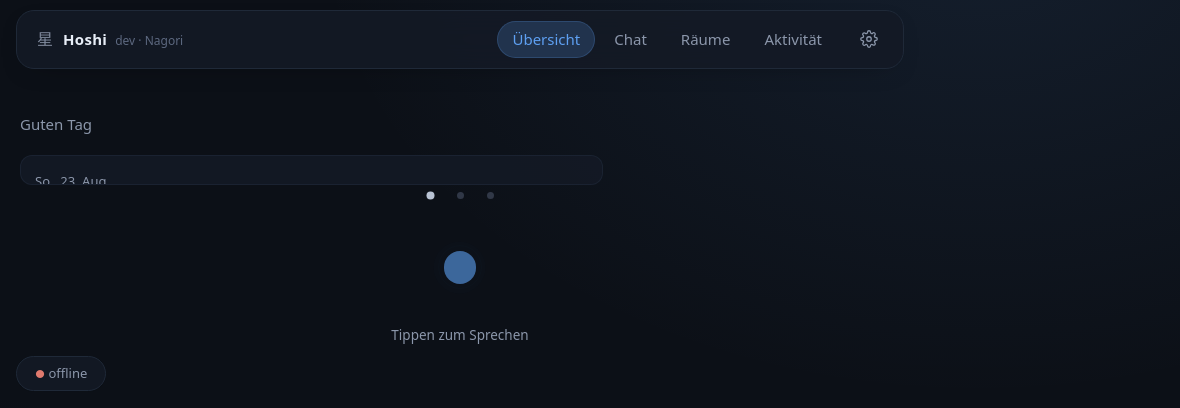
it: App — Übersicht ist die Start-Ansicht, der Orb sitzt dort › lädt auf dem Übersicht-Reiter mit sichtbarem Voice-Orb; Chat-Reiter zeigt die Compose-Bar
Expected: the element showing "Tippen zum Sprechen" is shown, [391,215,529,344]
Click the button with class "nav__tab" showing "Chat" at {"x": 631, "y": 39}, box [599,21,662,58]
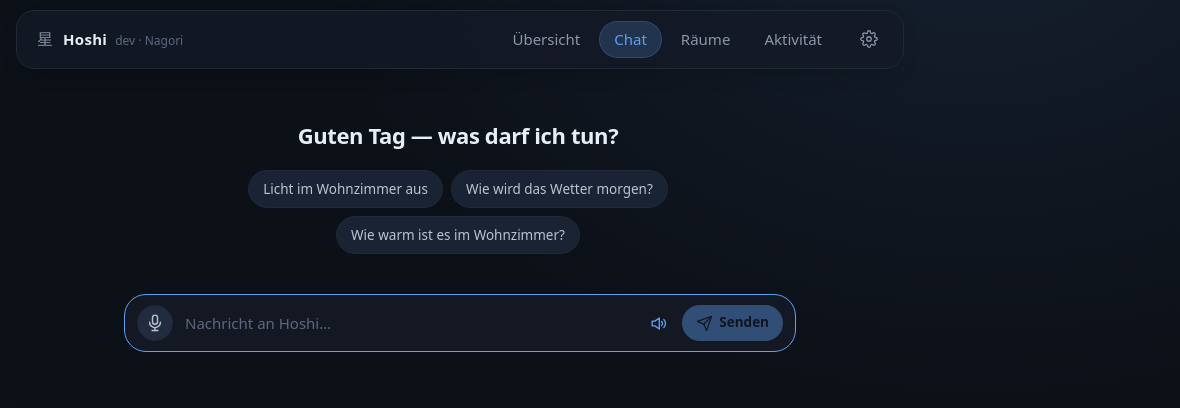
Now the text box with class "compose__input" is shown, box [181,306,634,340]
